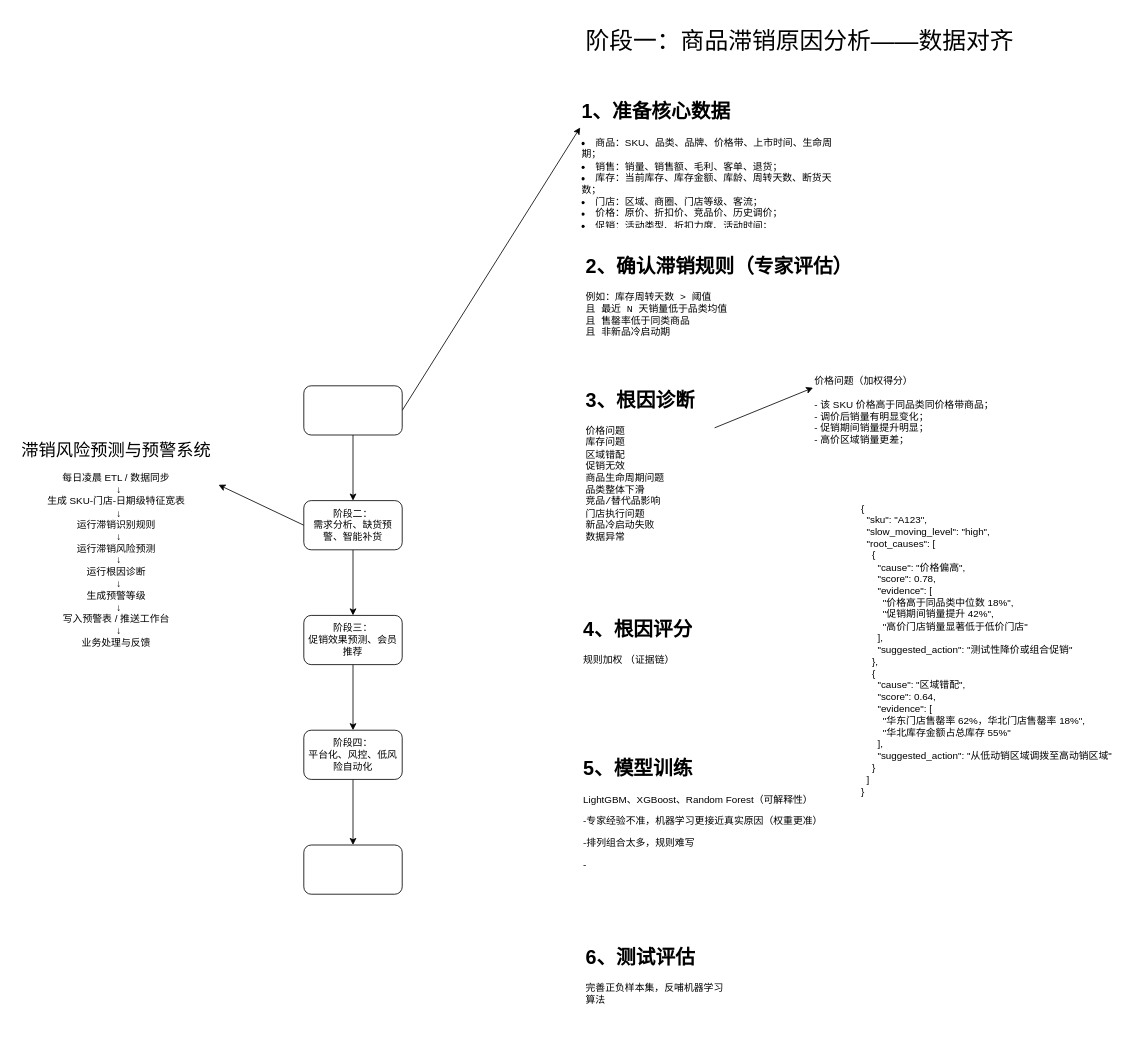
Image size: 1140x1055. Some labels were removed from this diagram. Here are the shapes that lost their labels. From the top down, the box of each, then its label:
(303, 385, 402, 435): 阶段一： 商品滞销原因分析
(303, 844, 402, 894): 阶段五： AI决策系统
